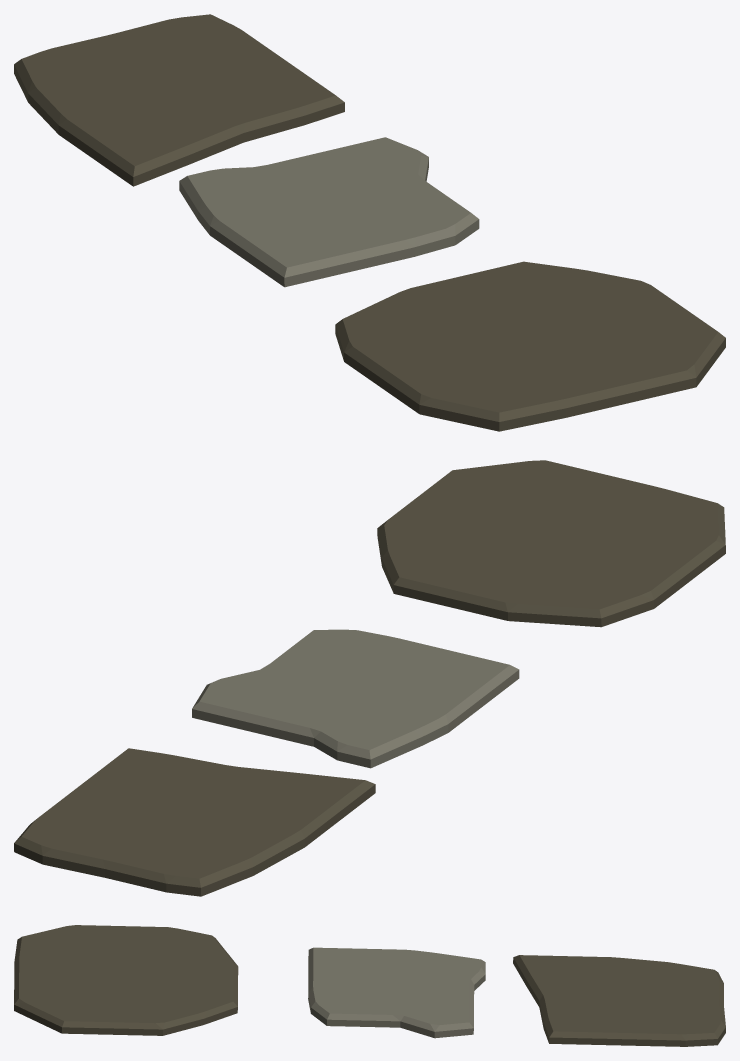
The model's file is RockWay.fbx.
3 views of the same model, one above another, from view 1: azimuth 30°, elevation 25°; view 2: azimuth 150°, elevation 25°; view 3: azimuth 270°, elevation 25° (orthographic). The views are drawn at different scales.
Visible parts, largest first — view 1: Plane.001, Plane.003, Plane.002; view 2: Plane.001, Plane.003, Plane.002; view 3: Plane.001, Plane.003, Plane.002.
Part boxes in pixels (left/top/right/bottom): Plane.001: left=335, top=261, right=725, bottom=431; Plane.003: left=14, top=14, right=344, bottom=186; Plane.002: left=179, top=137, right=479, bottom=287; Plane.001: left=377, top=460, right=725, bottom=627; Plane.003: left=14, top=748, right=375, bottom=896; Plane.002: left=192, top=629, right=519, bottom=768; Plane.001: left=14, top=925, right=238, bottom=1035; Plane.003: left=513, top=955, right=725, bottom=1046; Plane.002: left=308, top=947, right=485, bottom=1038.
Bounding box in the file's own units: 302 × 46.76 × 918.
